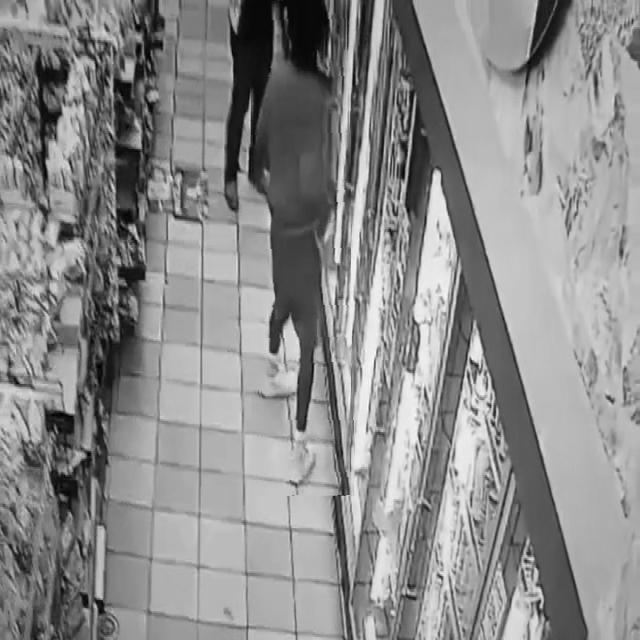normal: (251, 0, 351, 496)
